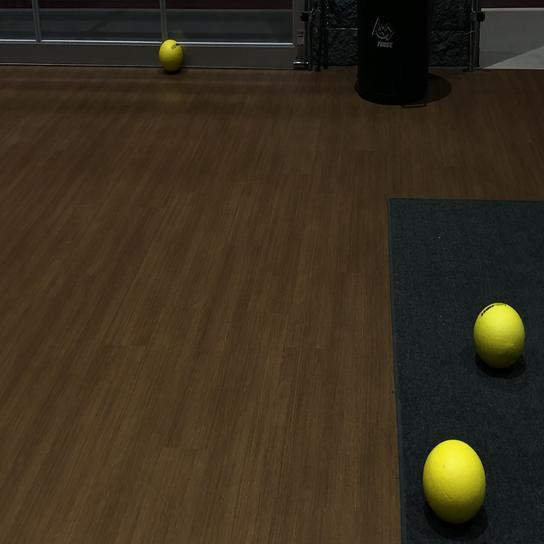ball: (420, 436, 488, 530), (470, 297, 526, 374), (157, 37, 185, 74)
